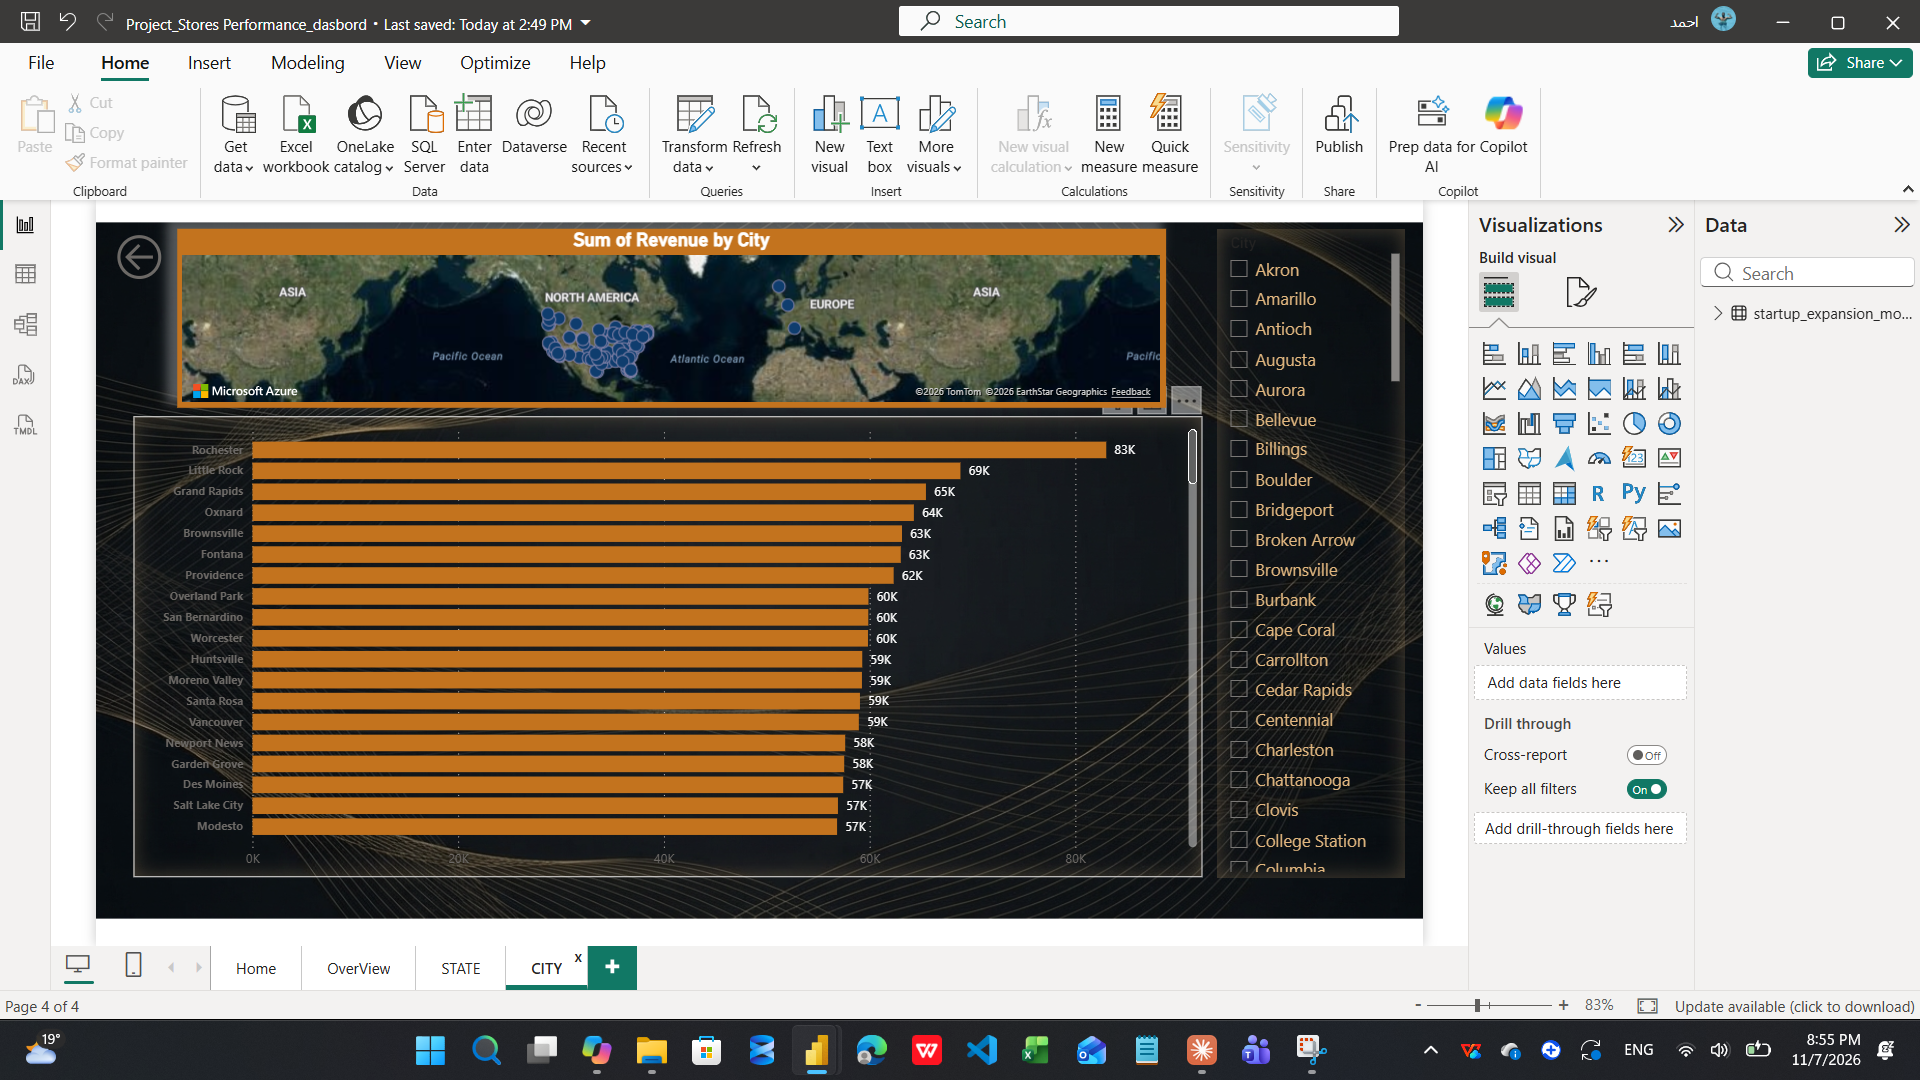

What the dashboard file says about the page in this screenshot:
{"tool":"powerbi","page":{"name":"CITY","canvas":[1280,720],"ordinal":3},"visuals":[{"type":"clusteredBarChart","fields":{"Category":["startup_expansion_modified.City"],"Y":["Sum(startup_expansion_modified.Revenue)"]},"box":[36.2,208.7,1031.5,445.2],"z":0},{"type":"slicer","fields":{"Values":["startup_expansion_modified.City"]},"box":[1082.2,27.7,181,626.1],"z":1000},{"type":"actionButton","box":[14.7,28,128,54.7],"z":2000},{"type":"azureMap","fields":{"Category":["startup_expansion_modified.City"]},"box":[78.4,27.7,954.3,172.5],"z":3000}]}

Visuals, with their boxes on the page's 1280x720 design canvas (x1, y1, x2, y2). These are canvas units, not pixel positions in the 1920x1080 screenshot, which may show the page scaled, cropped or inside an application window:
clusteredBarChart - startup_expansion_modified.City x Sum(startup_expansion_modified.Revenue): pyautogui.locateOnScreen(36, 209, 1068, 654)
slicer - startup_expansion_modified.City: pyautogui.locateOnScreen(1082, 28, 1263, 654)
actionButton: pyautogui.locateOnScreen(15, 28, 143, 83)
azureMap - startup_expansion_modified.City: pyautogui.locateOnScreen(78, 28, 1033, 200)
